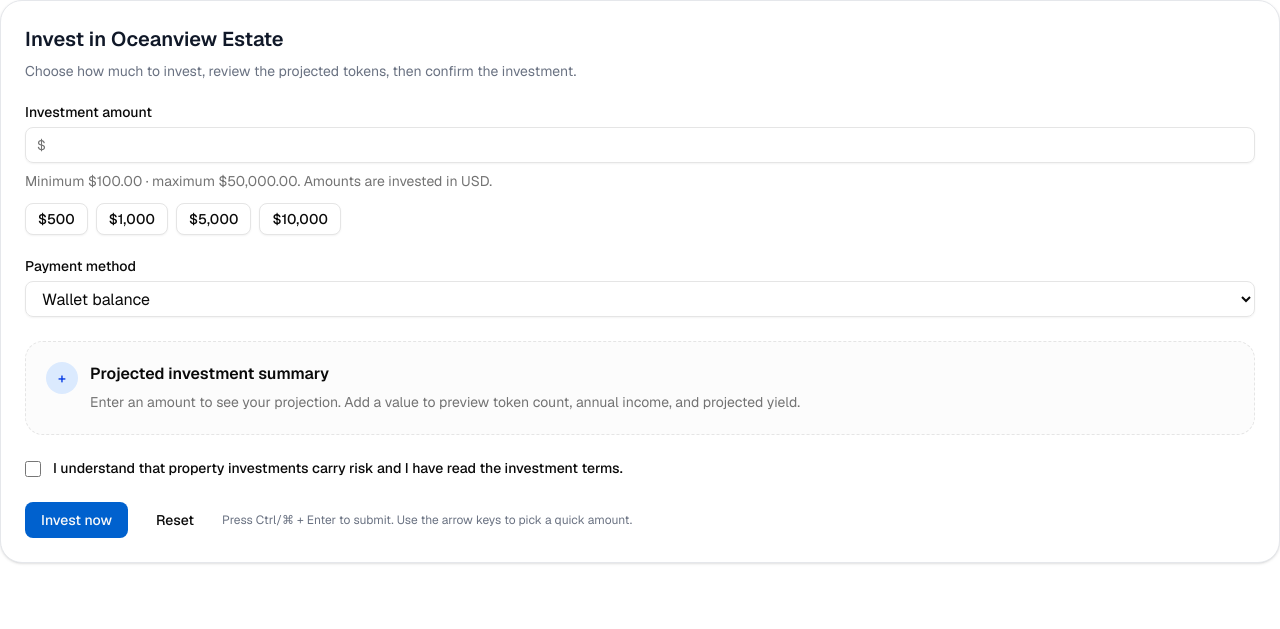
it: InvestmentForm › blocks submission and reports the minimum when the amount is too low
Type "50" into the number field labelled "Investment amount". click: (640, 145)
box: [25, 127, 1255, 163]
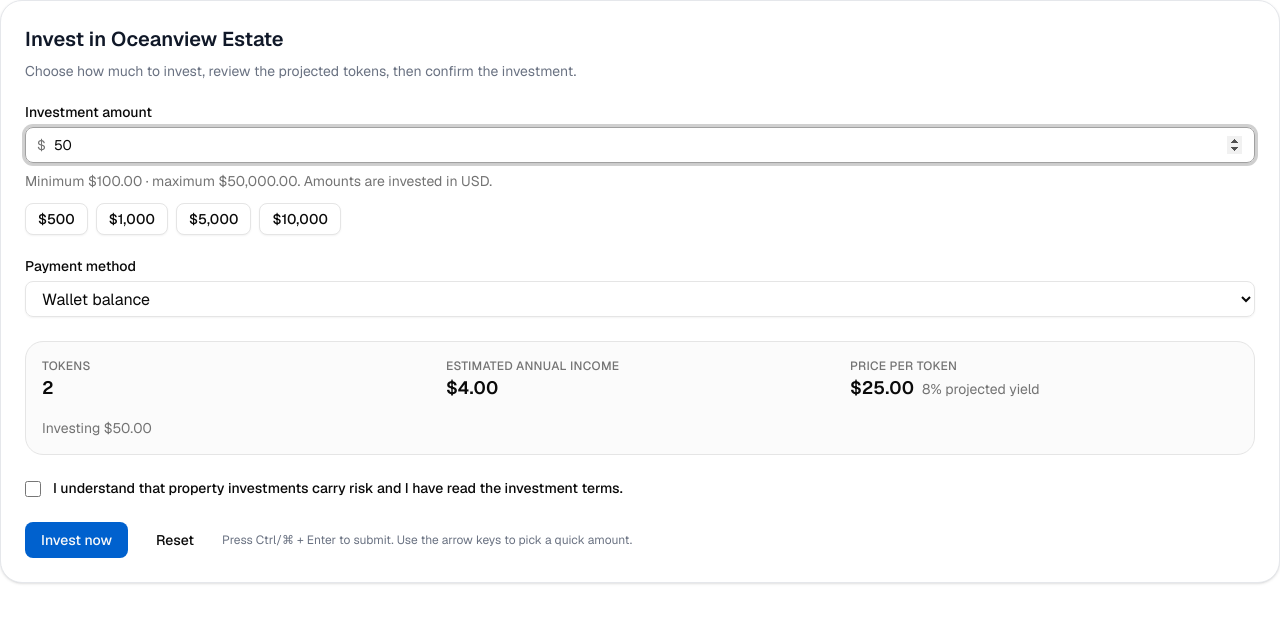
Click the checkbox. click: (33, 489)
box: [25, 481, 41, 497]
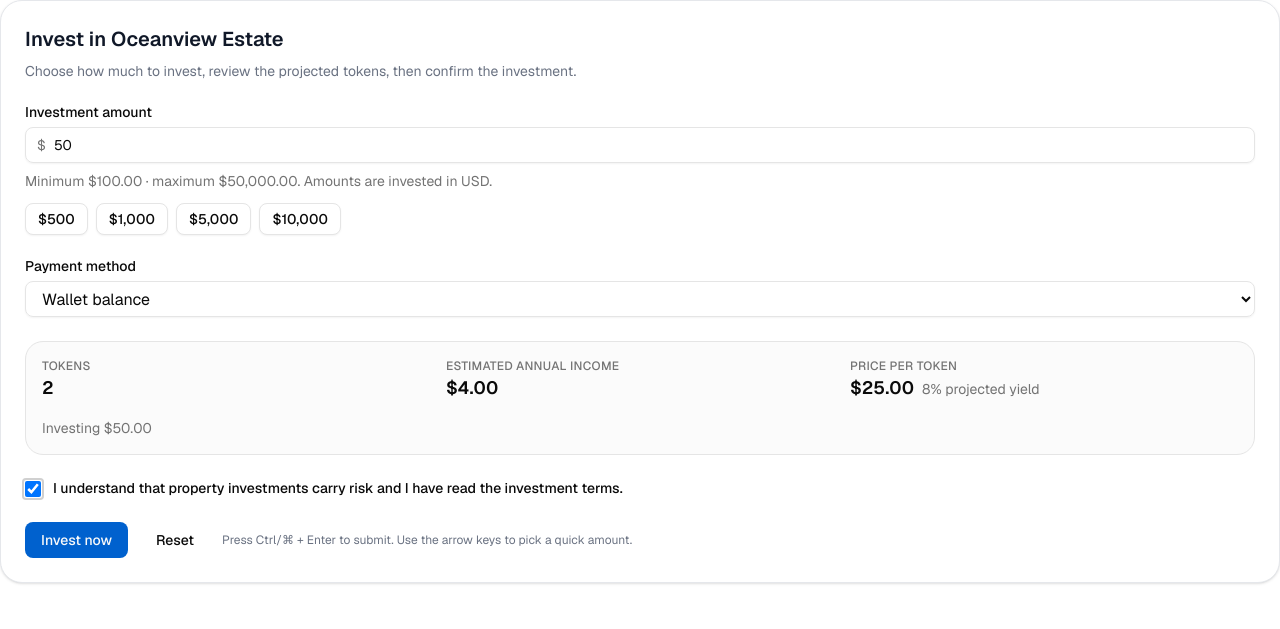
Click the button "Invest now". click: (76, 540)
box: [25, 522, 128, 558]
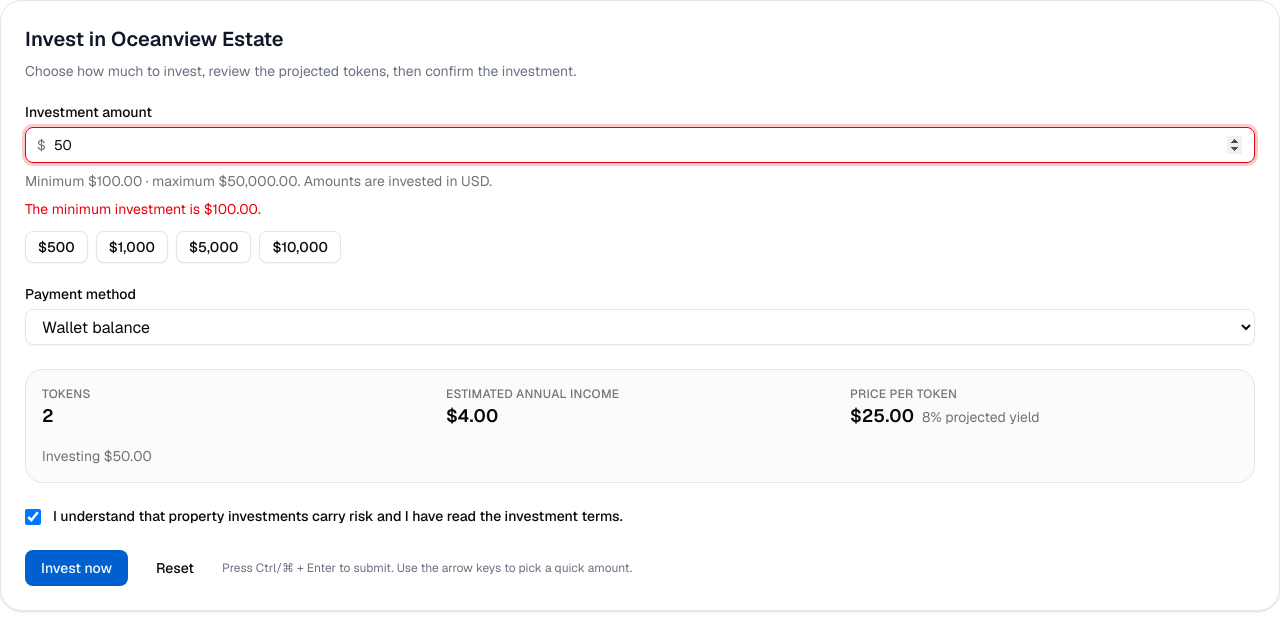
Now the message reads "The minimum investment is $100.00.", box [25, 200, 261, 218]
